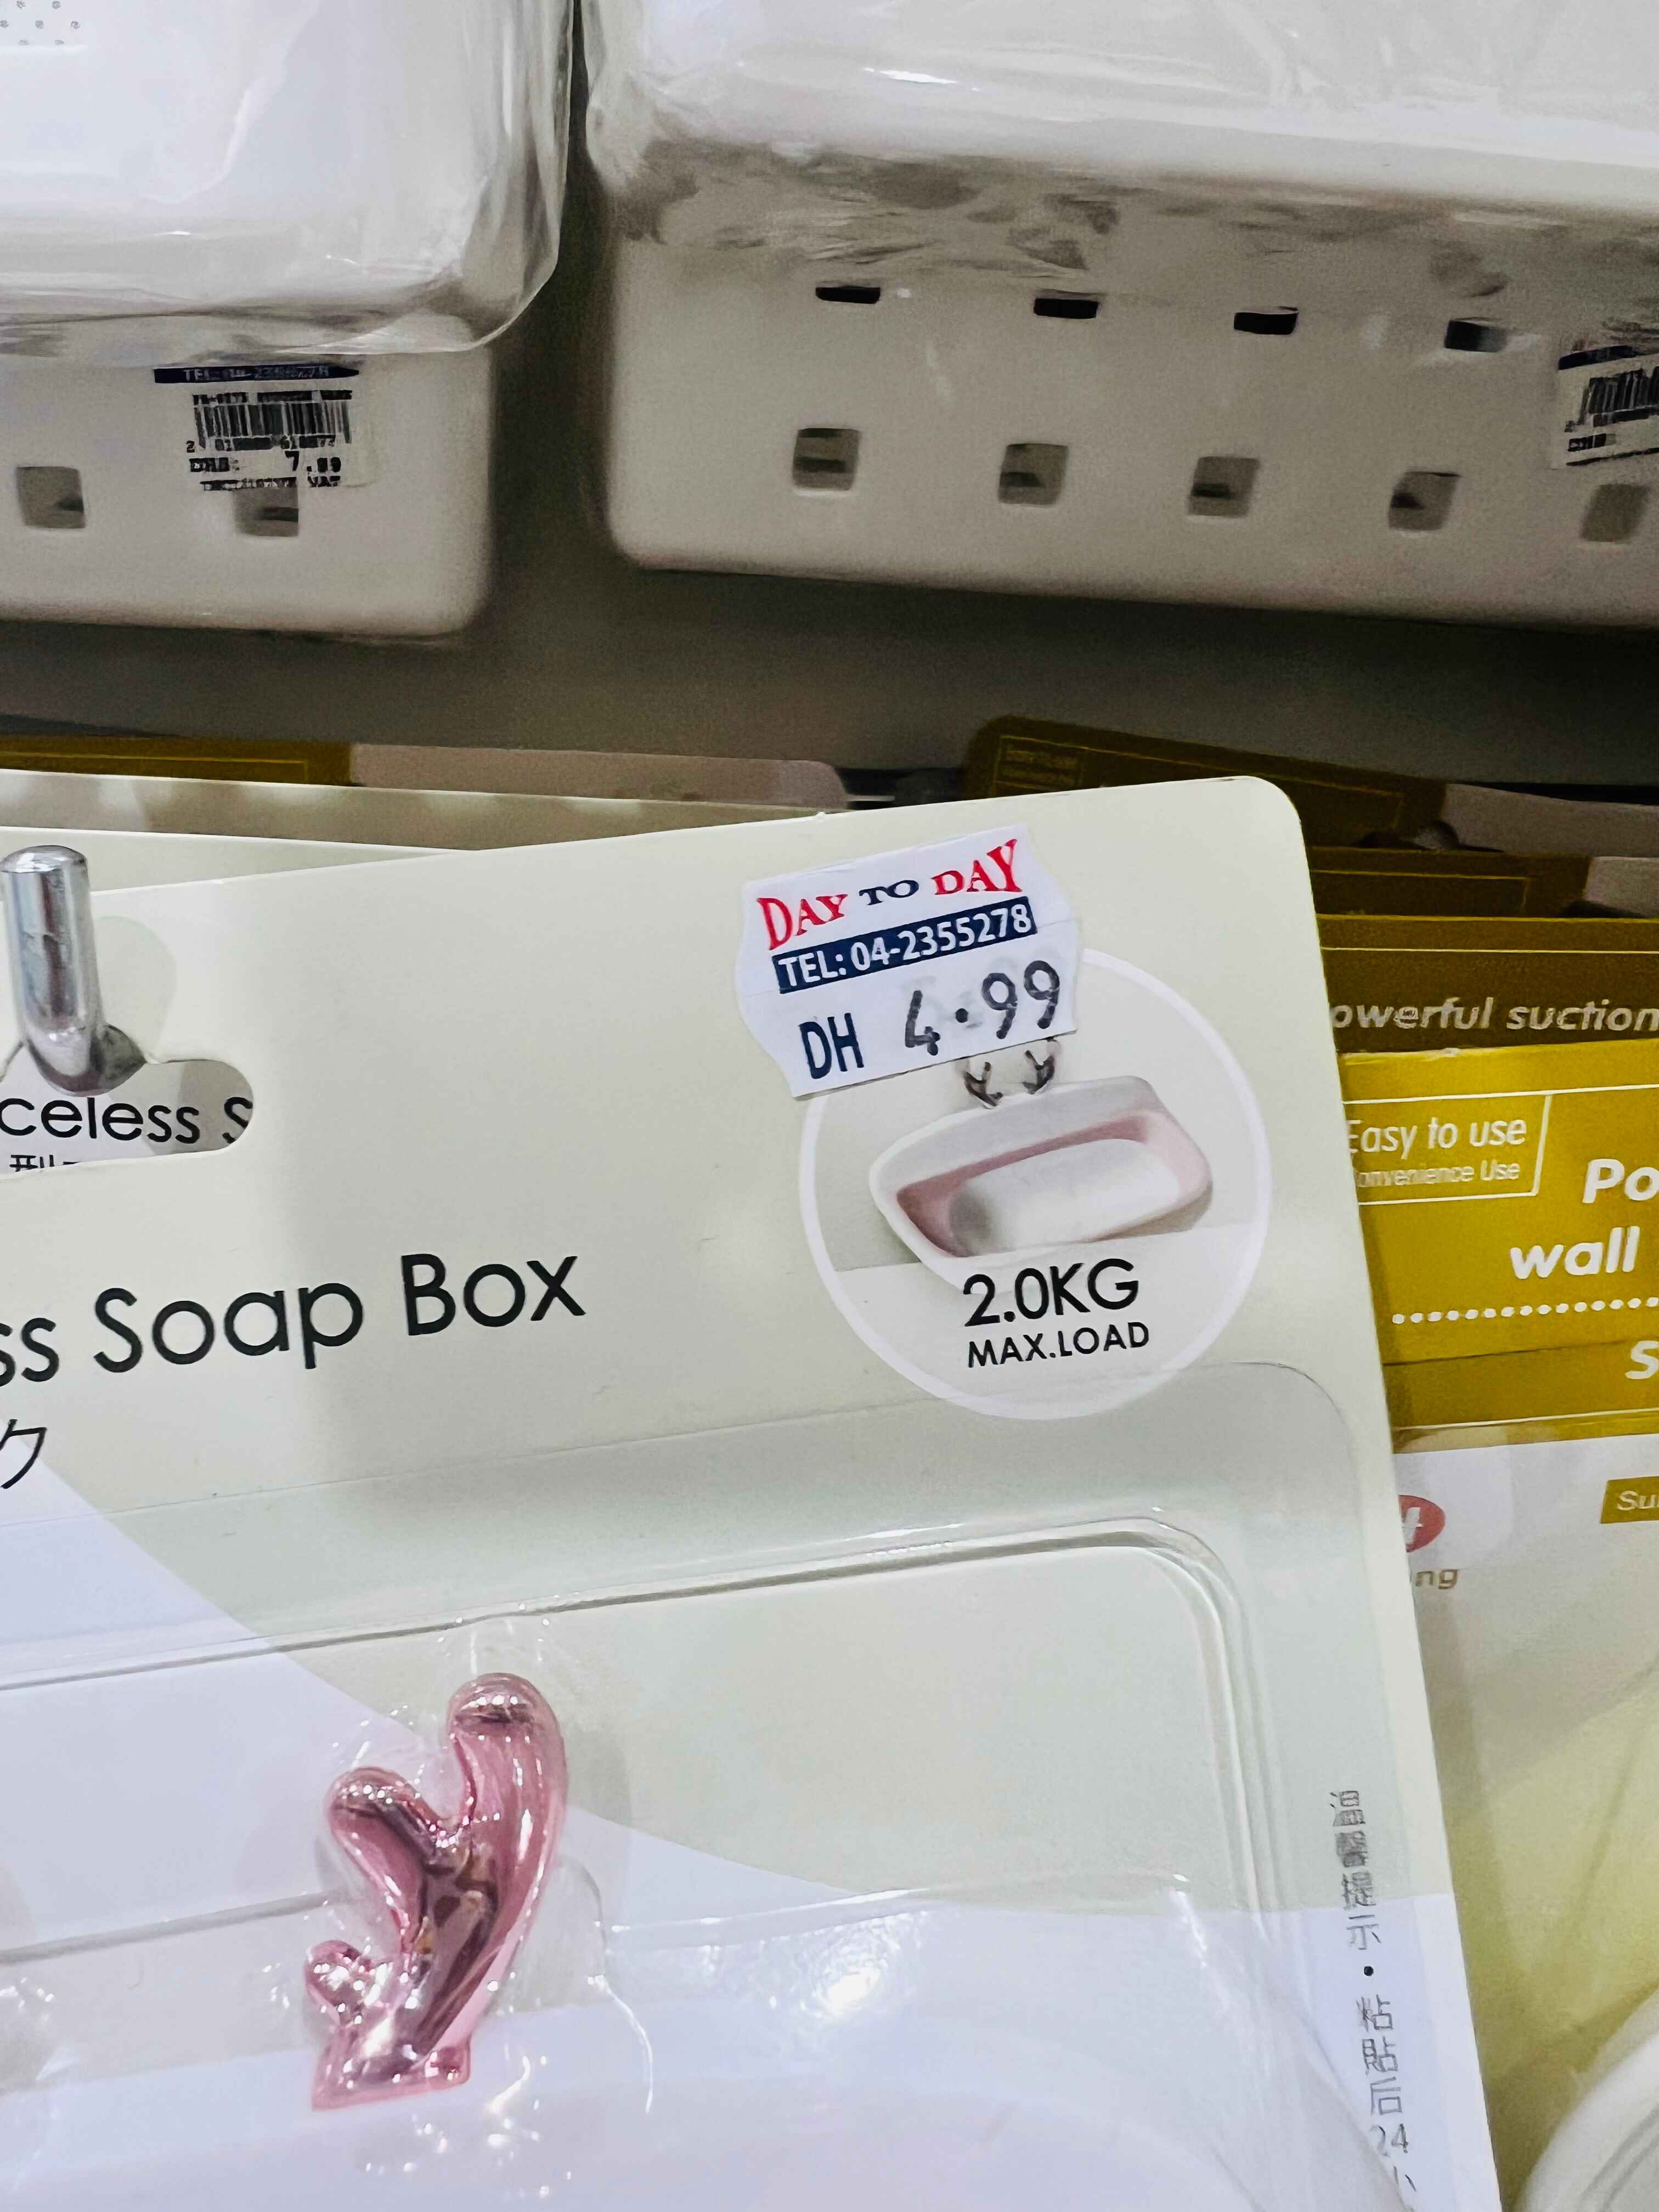PriceTagBig: (148, 341, 378, 500), (1544, 300, 1659, 479)
PriceTagSmall: (728, 829, 1079, 1089)
